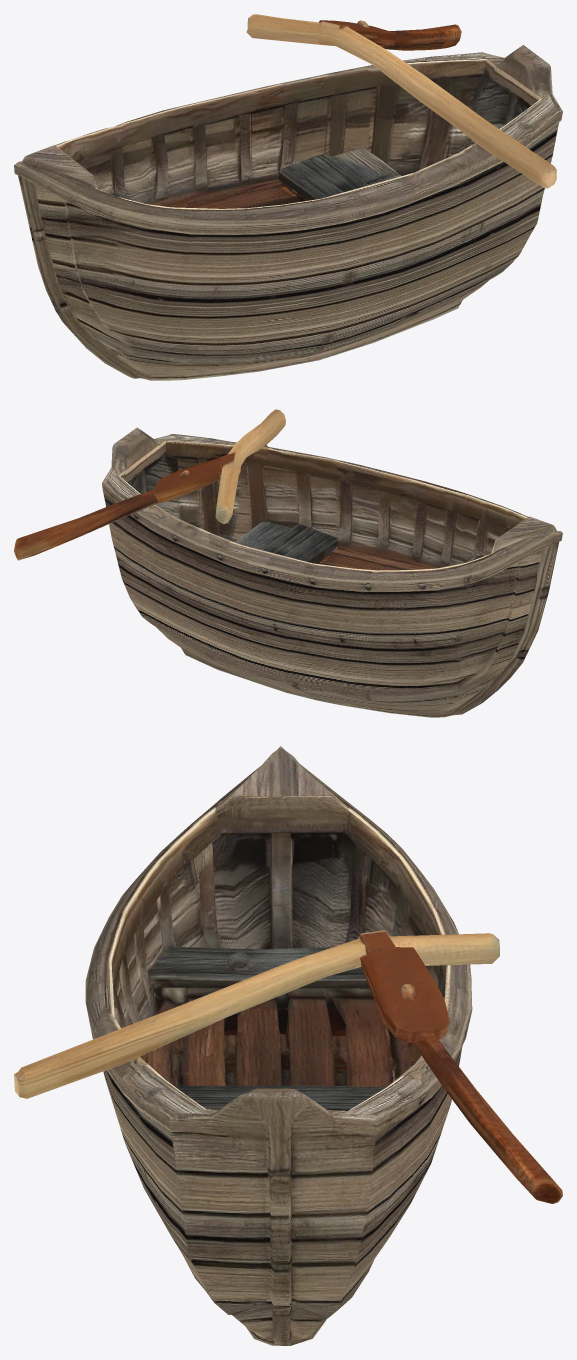
File: rowboat.glb
The picture shows the model from 3 angles, top to bottom: view 1: azimuth 30°, elevation 25°; view 2: azimuth 150°, elevation 25°; view 3: azimuth 270°, elevation 25°; orthographic projection. The views are drawn at different scales.
Bounding box in the file's own units: 1.9 × 0.9082 × 1.27.
Materials: 1 (1 with a texture image).
